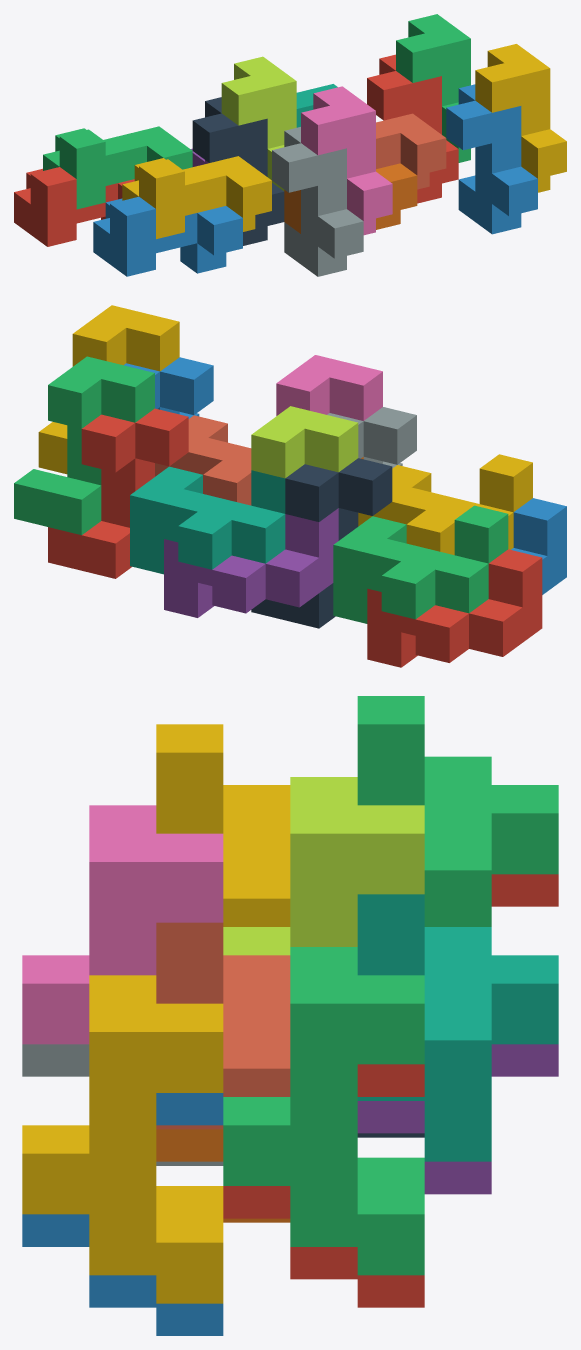
The model's file is tiling.obj.
The picture shows the model from 3 angles, top to bottom: view 1: azimuth 30°, elevation 25°; view 2: azimuth 150°, elevation 25°; view 3: azimuth 270°, elevation 25°; orthographic projection. The views are drawn at different scales.
Visible parts, largest first — view 1: copy_2_domain_6, copy_2_domain_2, copy_1_domain_2, copy_1_domain_4, copy_2_domain_8, copy_2_domain_4, copy_1_domain_3, copy_2_domain_7, copy_2_domain_3, copy_1_domain_1, copy_2_domain_1, copy_2_domain_5 (+3 smaller); view 2: copy_1_domain_3, copy_1_domain_7, copy_2_domain_7, copy_1_domain_1, copy_2_domain_5, copy_1_domain_5, copy_1_domain_4, copy_2_domain_1, copy_2_domain_8, copy_2_domain_3, copy_2_domain_4, copy_1_domain_8 (+3 smaller); view 3: copy_2_domain_8, copy_2_domain_7, copy_1_domain_7, copy_1_domain_3, copy_2_domain_4, copy_2_domain_3, copy_1_domain_4, copy_1_domain_8, copy_2_domain_5, copy_2_domain_6, copy_1_domain_5, copy_1_domain_6 (+2 smaller).
Boxes of the visible parts, x1=… form: copy_2_domain_6: x1=446, y1=84, x2=537, y2=234; copy_2_domain_2: x1=272, y1=127, x2=363, y2=276; copy_1_domain_2: x1=93, y1=196, x2=242, y2=276; copy_1_domain_4: x1=122, y1=156, x2=271, y2=239; copy_2_domain_8: x1=475, y1=44, x2=566, y2=192; copy_2_domain_4: x1=301, y1=86, x2=392, y2=235; copy_1_domain_3: x1=43, y1=126, x2=192, y2=209; copy_2_domain_7: x1=396, y1=14, x2=470, y2=162; copy_2_domain_3: x1=221, y1=56, x2=296, y2=190; copy_1_domain_1: x1=14, y1=167, x2=134, y2=246; copy_2_domain_1: x1=192, y1=97, x2=284, y2=245; copy_2_domain_5: x1=367, y1=54, x2=458, y2=203; copy_1_domain_3: x1=333, y1=505, x2=508, y2=623; copy_1_domain_7: x1=130, y1=466, x2=285, y2=574; copy_2_domain_7: x1=14, y1=356, x2=154, y2=535; copy_1_domain_1: x1=367, y1=549, x2=542, y2=667; copy_2_domain_5: x1=48, y1=408, x2=188, y2=578; copy_1_domain_5: x1=164, y1=508, x2=338, y2=617; copy_1_domain_4: x1=358, y1=454, x2=532, y2=555; copy_2_domain_1: x1=251, y1=458, x2=392, y2=628; copy_2_domain_8: x1=38, y1=305, x2=179, y2=474; copy_2_domain_3: x1=251, y1=406, x2=358, y2=478; copy_2_domain_4: x1=276, y1=355, x2=382, y2=420; copy_1_domain_8: x1=155, y1=415, x2=251, y2=505; copy_2_domain_8: x1=22, y1=975, x2=223, y2=1303; copy_2_domain_7: x1=223, y1=947, x2=424, y2=1275; copy_1_domain_7: x1=357, y1=894, x2=558, y2=1161; copy_1_domain_3: x1=357, y1=696, x2=558, y2=926; copy_2_domain_4: x1=22, y1=805, x2=223, y2=1044; copy_2_domain_3: x1=223, y1=777, x2=424, y2=955; copy_1_domain_4: x1=156, y1=724, x2=290, y2=926; copy_1_domain_8: x1=156, y1=922, x2=290, y2=1129; copy_2_domain_5: x1=223, y1=1064, x2=424, y2=1307; copy_2_domain_6: x1=22, y1=1093, x2=223, y2=1335; copy_1_domain_5: x1=357, y1=1044, x2=558, y2=1194; copy_1_domain_6: x1=156, y1=1129, x2=290, y2=1222.
Size of the model in its own units: 16 by 5 by 8.
